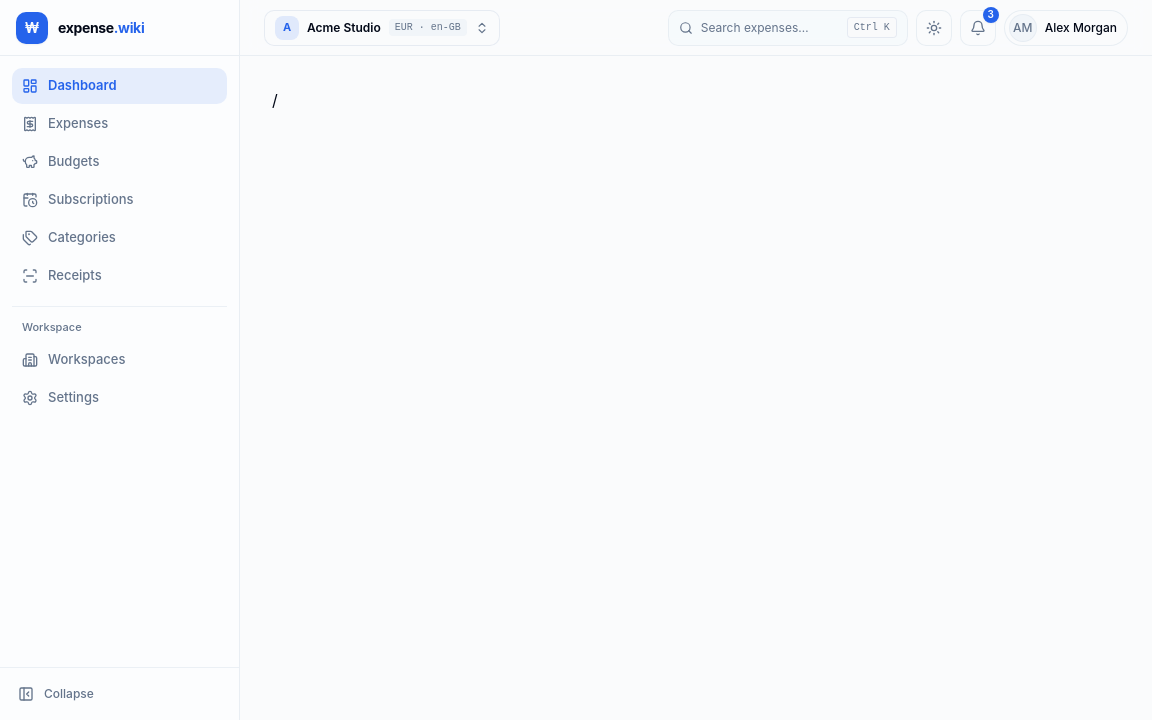
Test case: AppShell, Header, and Sidebar layout › opens search via Ctrl+K without fake pre-seeded history and navigates to expenses on Enter
The image size is (1152, 720).
Step 1. Press k
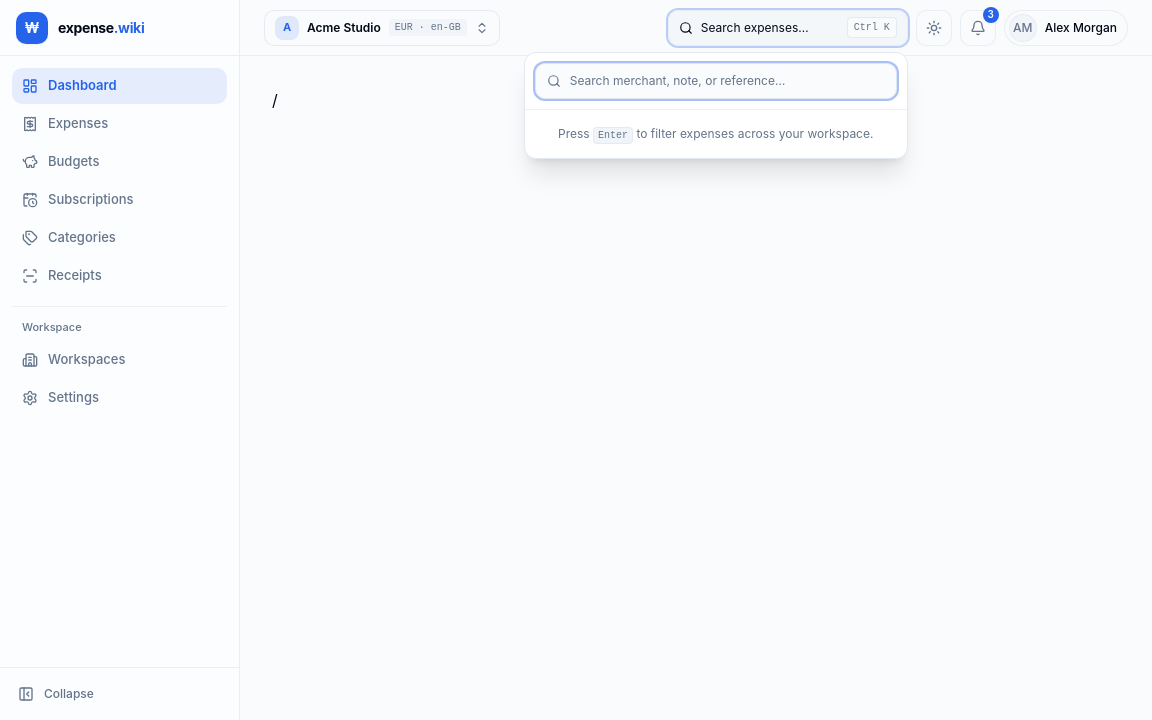
Step 2. Type "Cloudflare" into the field with placeholder "Search merchant, note, or reference…" → (716, 80), box [535,62,897,98]
Then press Enter
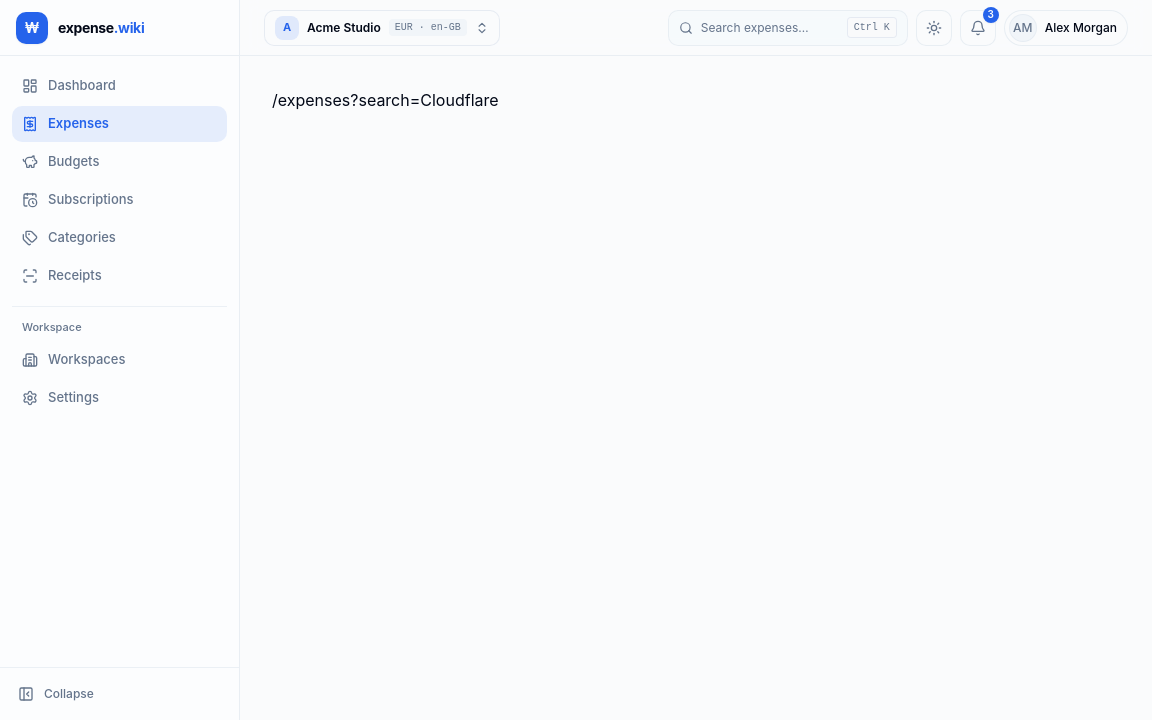
expect the text with test id "route-probe" reads "/expenses?search=Cloudflare": met, box [272,90,499,110]
Reopen search and confirm recent query was persisted
Step 3. Click the button "Search expenses… Ctrl K" → click(788, 28), box [668,10,908,46]
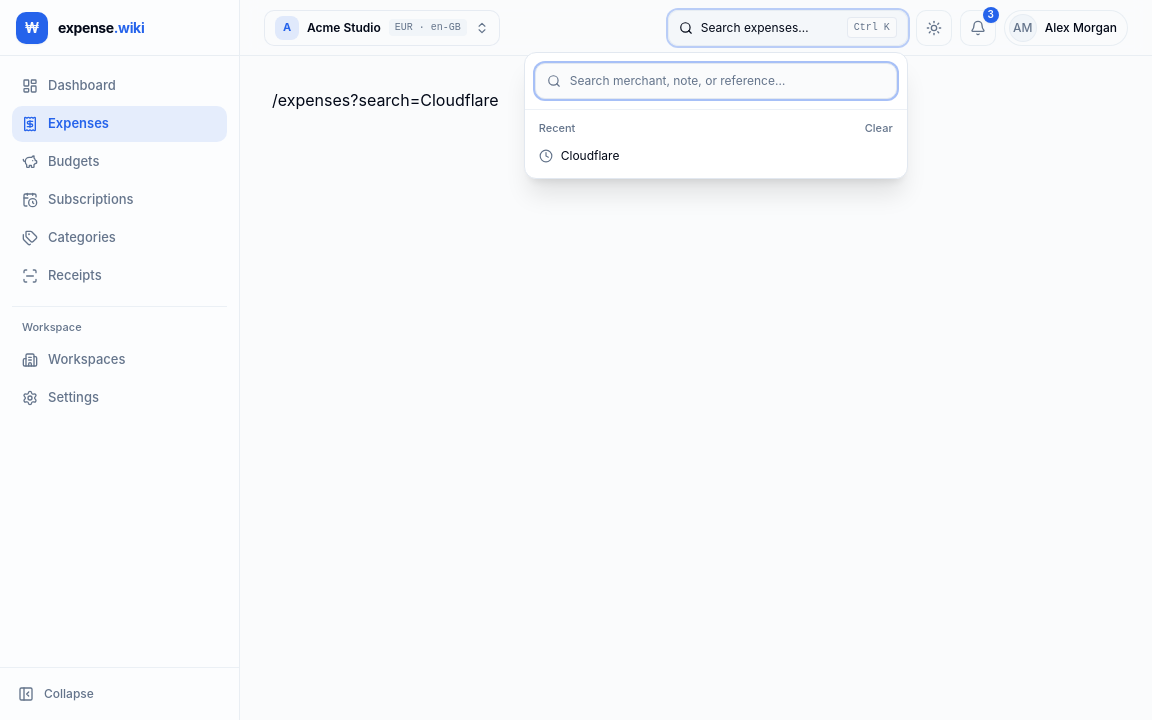
expect the text "Cloudflare" is shown: met, box [561,148,619,164]
